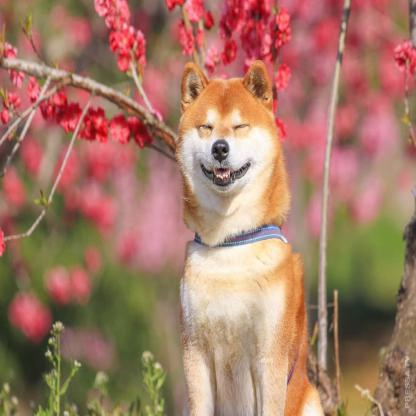Siba-ny: (168, 57, 325, 415)
